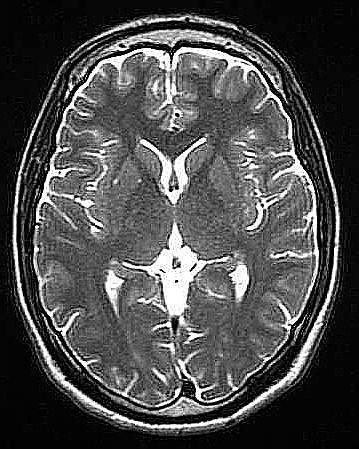Normal_Brain: (1, 2, 359, 449)
